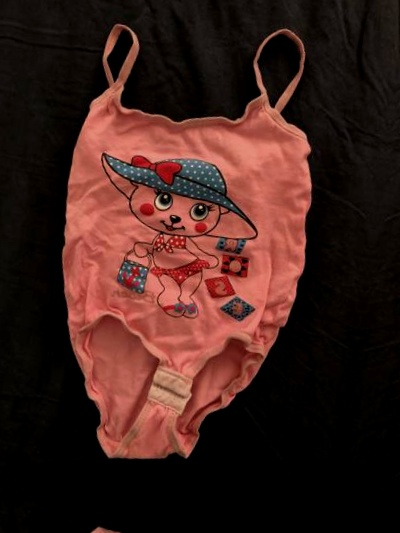Body: (0, 0, 350, 485), (0, 509, 270, 533), (390, 30, 400, 533)
